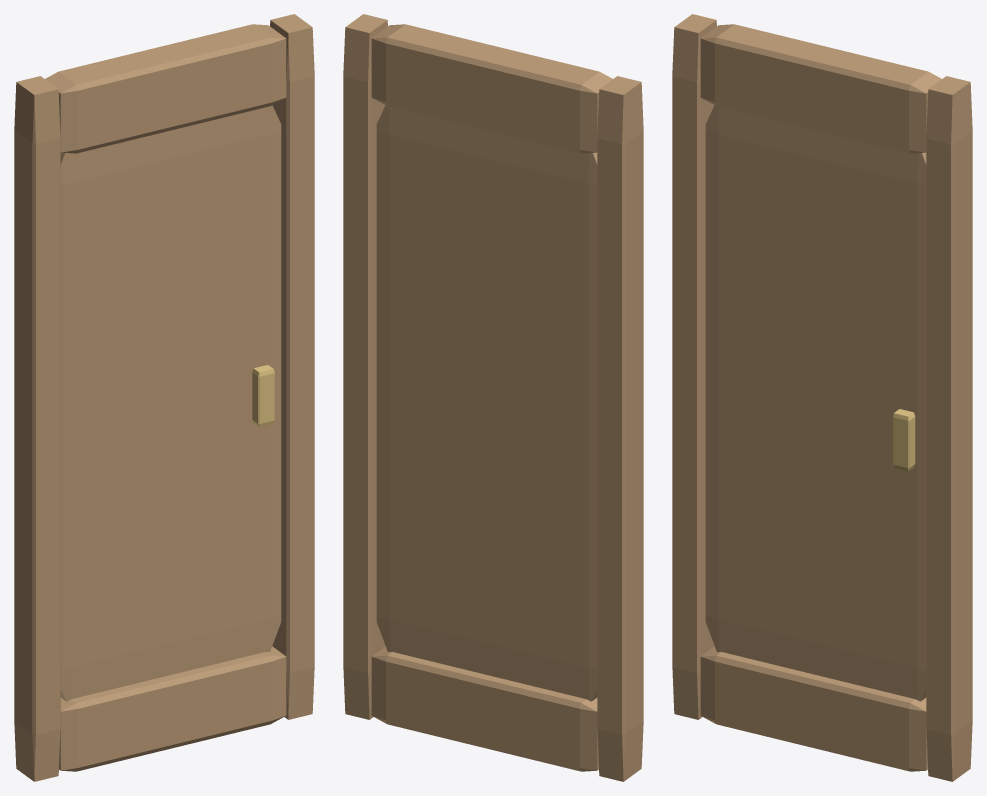
The model's file is b21_door_leaf_wood_900mm.glb.
3 views of the same model, side by side, from view 1: azimuth 30°, elevation 25°; view 2: azimuth 150°, elevation 25°; view 3: azimuth 330°, elevation 25° (orthographic).
Parts seen in each view (by area): view 1: b21_door_leaf_wood_900mm; view 2: b21_door_leaf_wood_900mm; view 3: b21_door_leaf_wood_900mm.
Part boxes in pixels (x1,y1,x2,y2): b21_door_leaf_wood_900mm: (14, 14, 314, 781); b21_door_leaf_wood_900mm: (343, 14, 643, 781); b21_door_leaf_wood_900mm: (672, 14, 972, 781).
Size of the model in its own units: 0.916 by 2.13 by 0.128.
